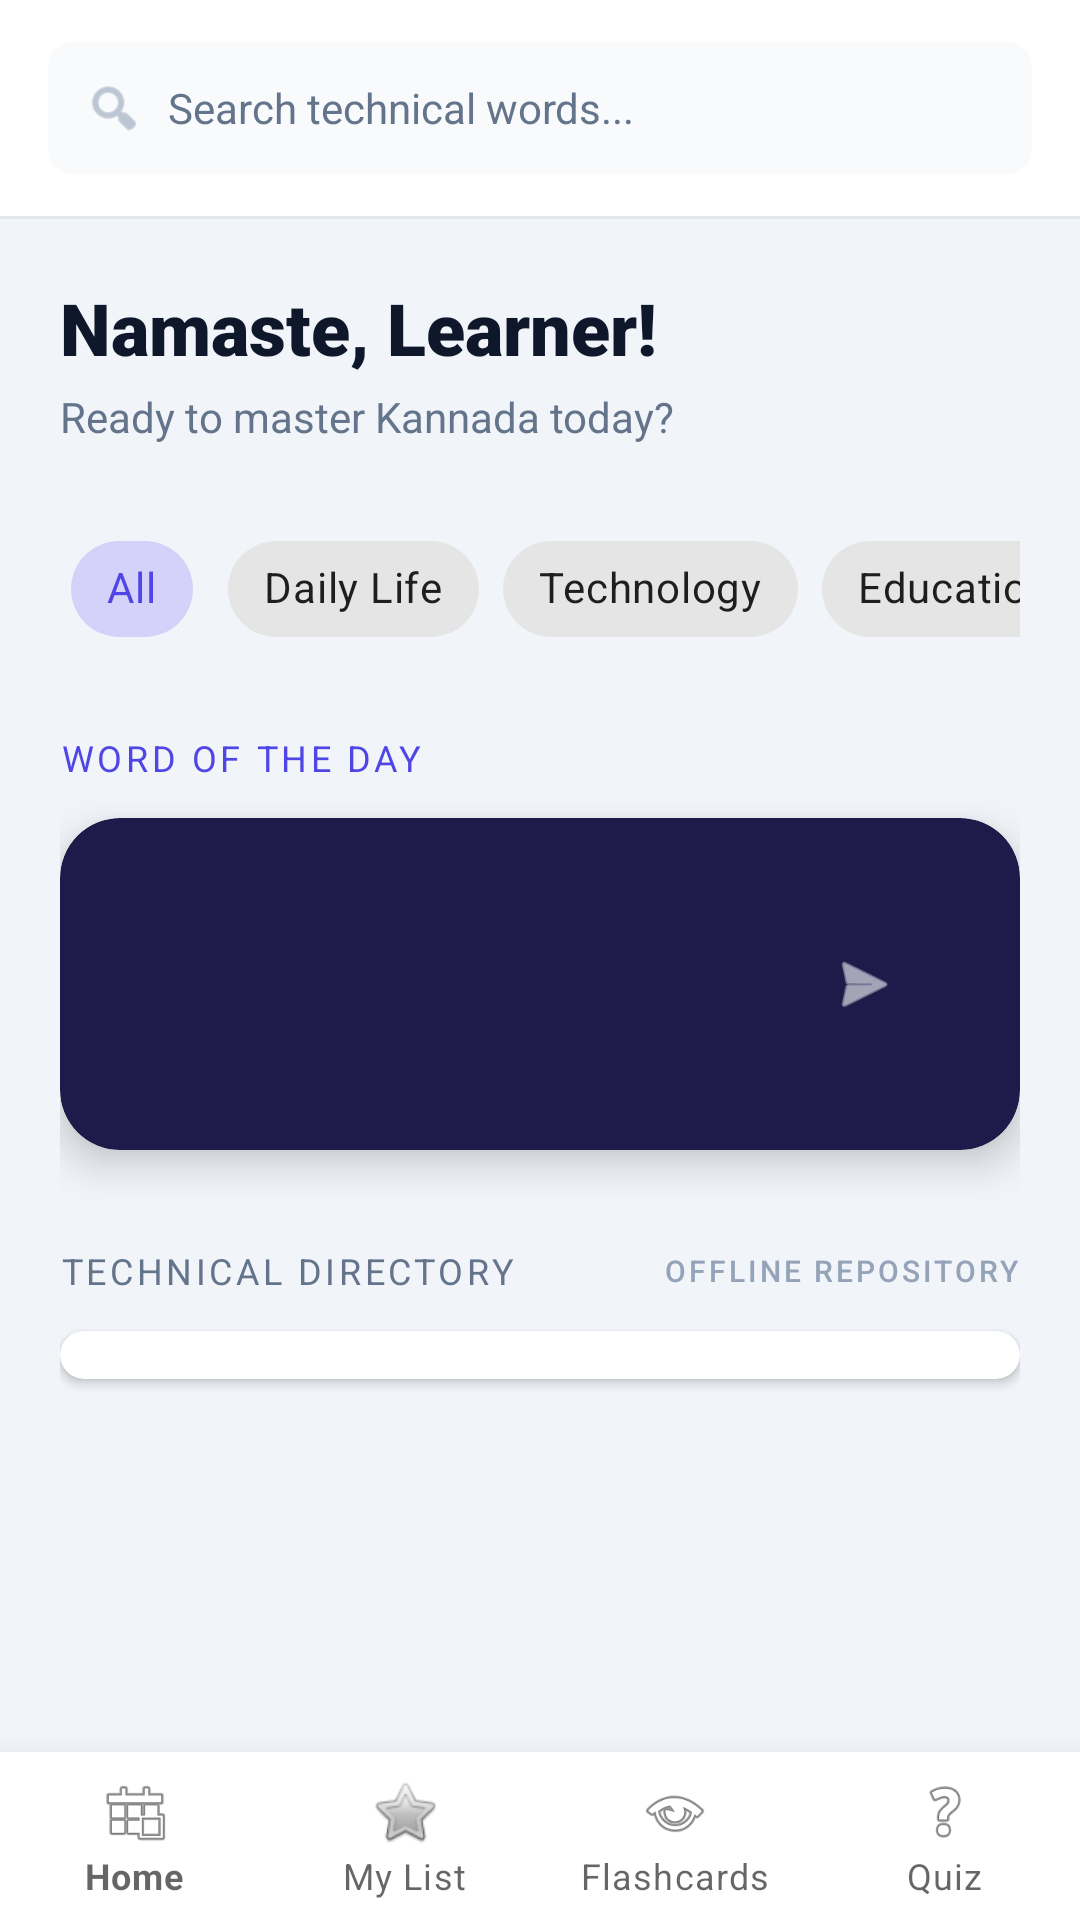

Named icons in this screenshot (1080px×1920px) and their centers, (x=x, y=y):
send: (x=865, y=984)
